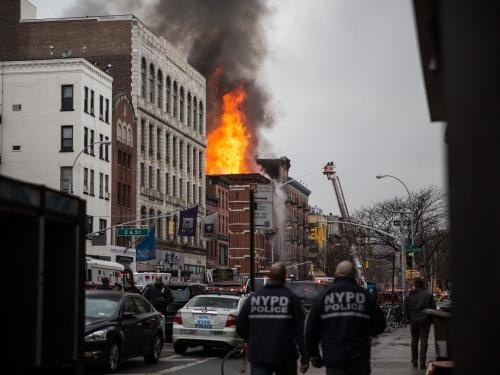fire: (205, 84, 255, 176)
